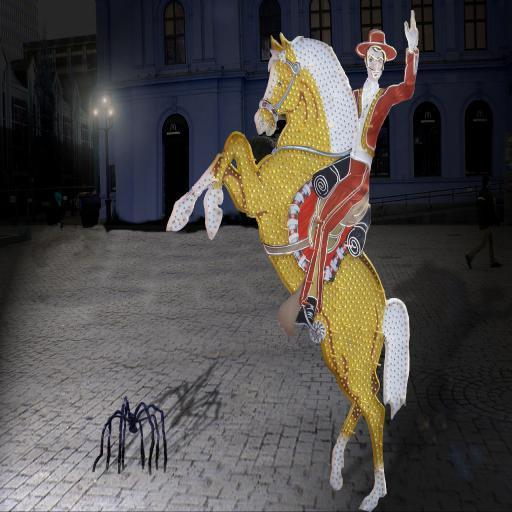horse: (166, 32, 410, 510)
